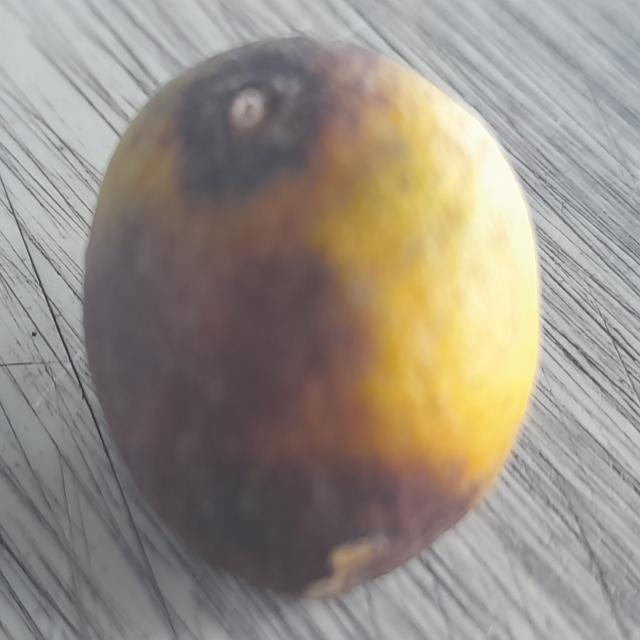black spot: (72, 33, 548, 605)
